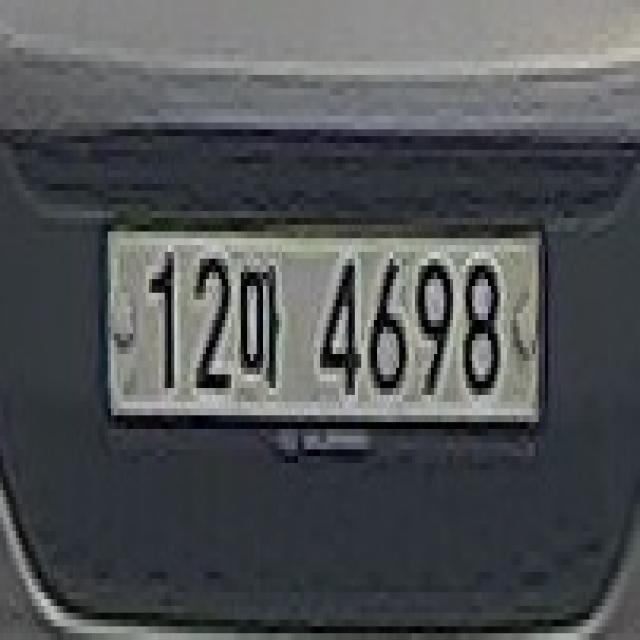1: (144, 253, 180, 395)
2: (191, 254, 233, 390)
4: (318, 252, 362, 405)
6: (368, 255, 410, 396)
8: (462, 252, 505, 412)
9: (414, 256, 452, 402)
license_plate: (99, 223, 552, 438)
ma: (235, 257, 282, 398)
